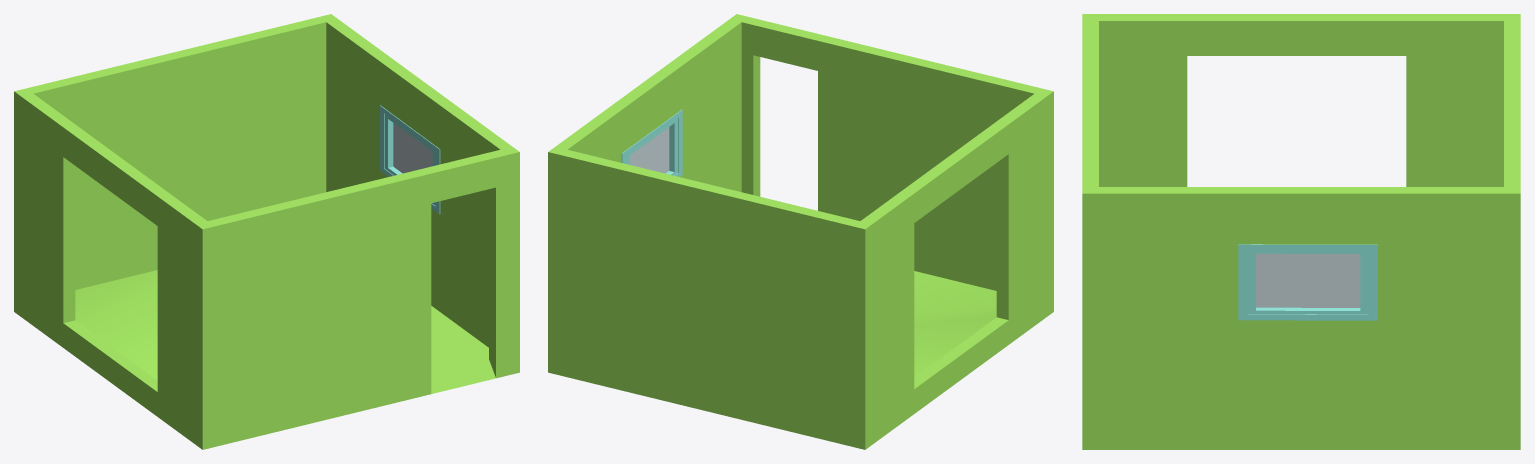
File: wall wall wall.fbx
3 renders of one model, left to right at view 1: azimuth 30°, elevation 25°; view 2: azimuth 150°, elevation 25°; view 3: azimuth 270°, elevation 25°, orthographic. The views are drawn at different scales.
Parts seen in each view (by area): view 1: 벽, AwningWindow001; view 2: 벽, AwningWindow001; view 3: 벽, AwningWindow001.
Boxes of the visible parts, x1,y1,x2,y2 form: 벽: (14,14,519,449); AwningWindow001: (380,105,440,214); 벽: (548,14,1053,449); AwningWindow001: (621,109,682,176); 벽: (1082,14,1520,449); AwningWindow001: (1238,244,1377,320).
Size of the model in its own units: 80.56 by 53.3 by 82.59.
